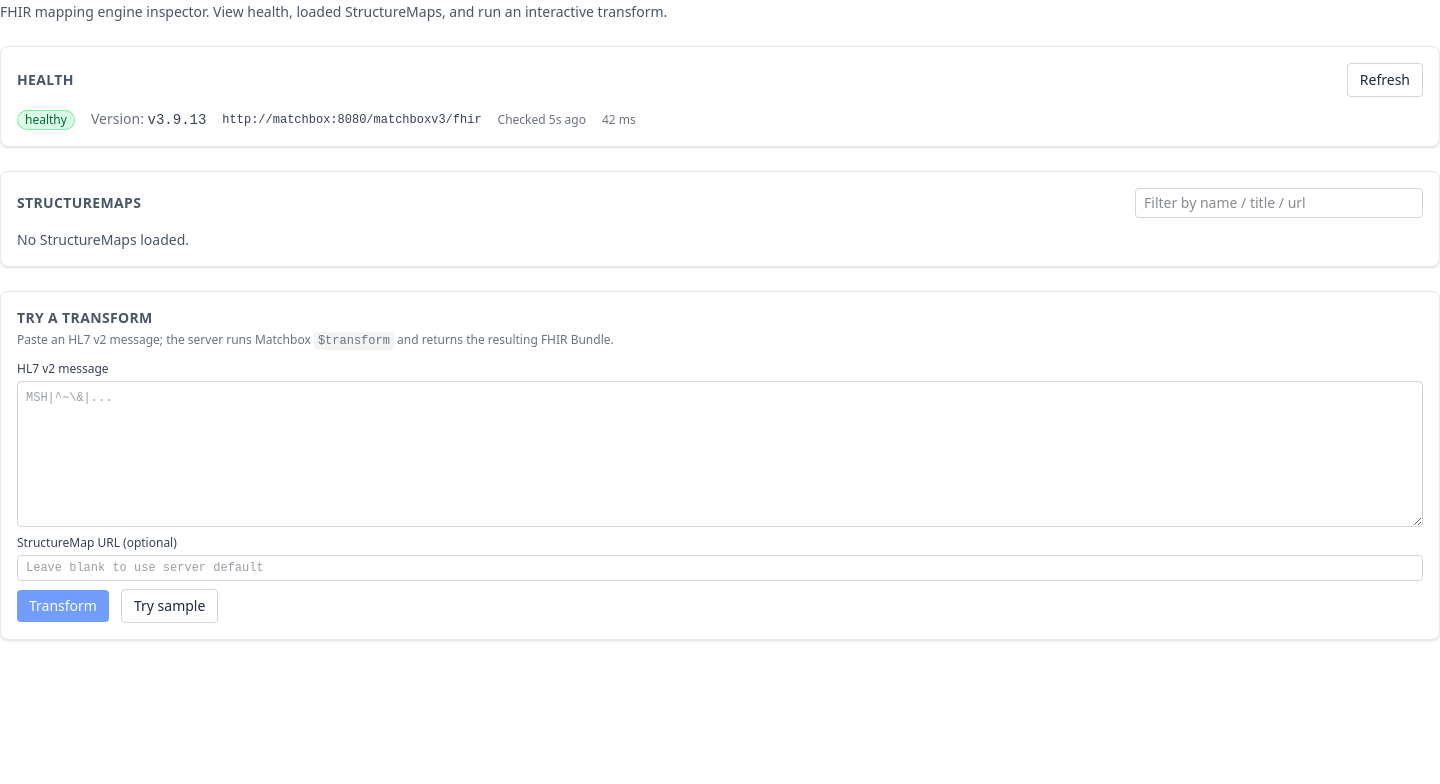
Test: MatchboxView (ticket #405) › Transform success renders the pretty-printed Bundle
Type "MSH|^~\\&|X" into the text box with test id "matchbox-transform-input" at (720, 454), box [17,381,1423,527]
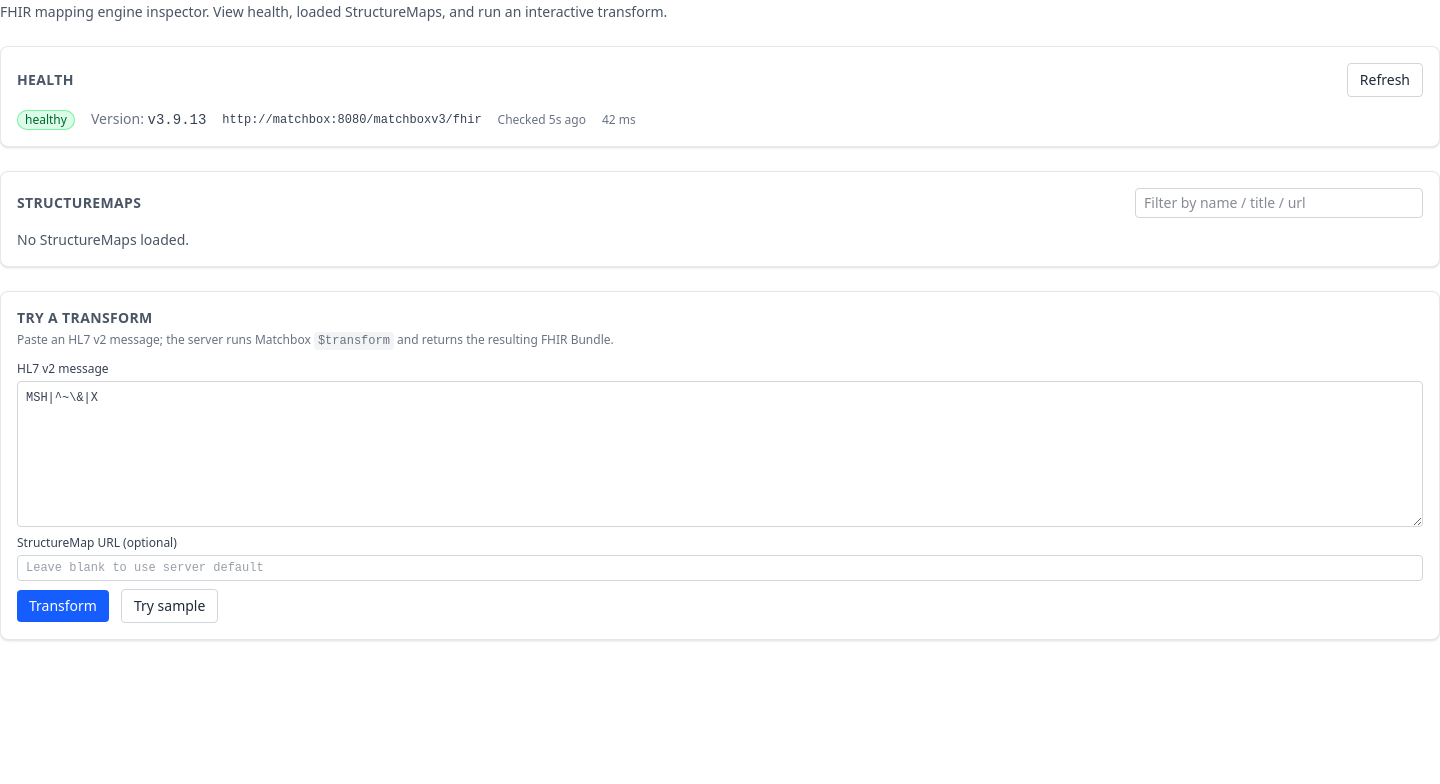
Click the button with test id "matchbox-transform-run" at (63, 606), box [17,590,109,622]
(page scrolled)
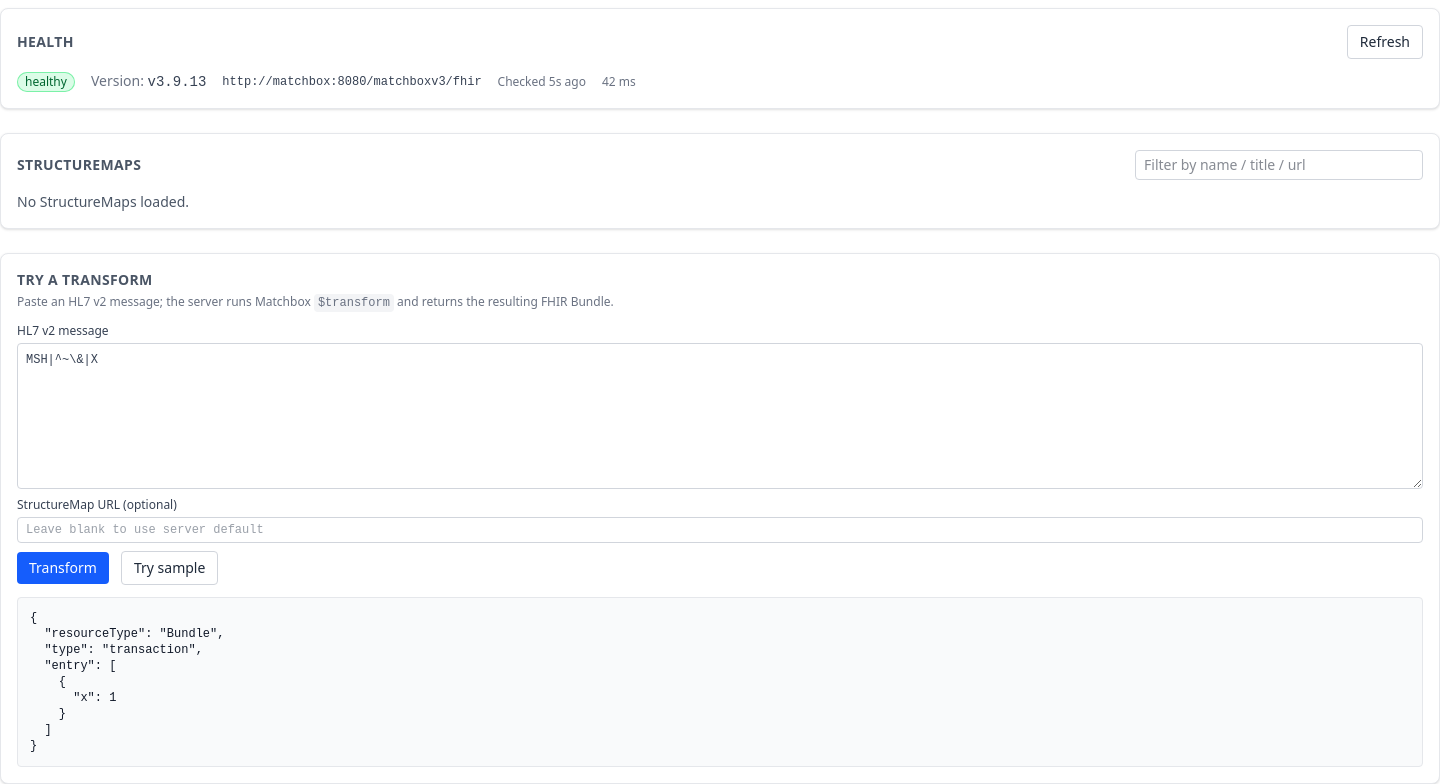
Expected: the text with test id "matchbox-transform-output" is shown, [17,597,1423,767]
Expected: the text with test id "matchbox-transform-output" shows "\"resourceType\": \"Bundle\"", [30,611,224,753]
Expected: the text with test id "matchbox-transform-output" shows "\"entry\"", [30,611,224,753]
